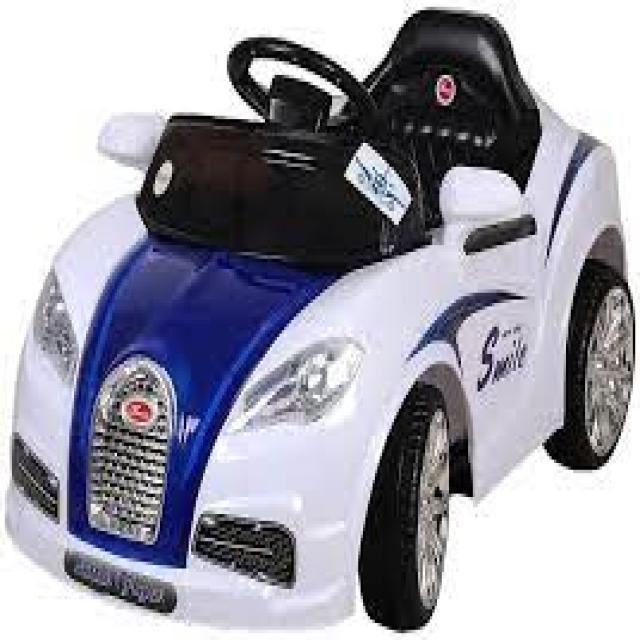Car: (2, 3, 636, 630)
